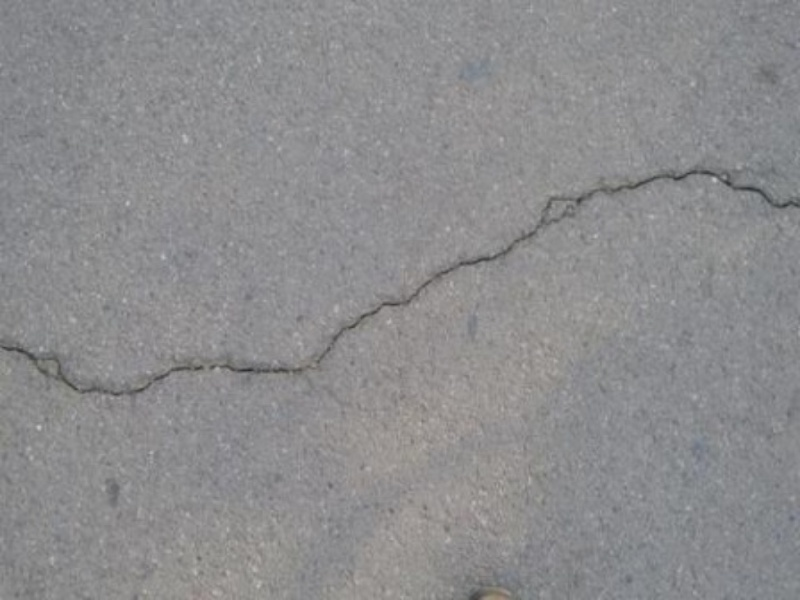crack: (11, 150, 794, 445)
